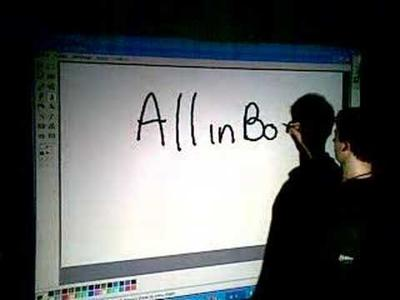person: (287, 107, 397, 299)
